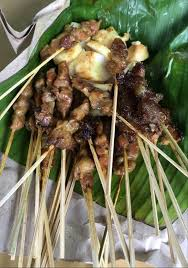sate: (8, 9, 188, 179)
